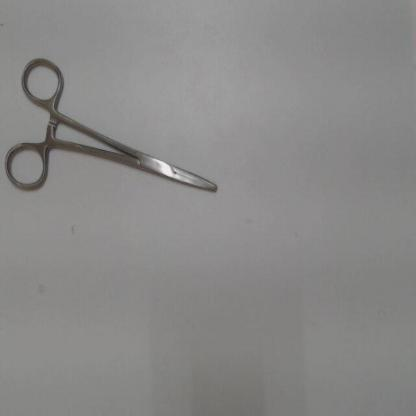Mayo Needle Holder: (2, 51, 230, 206)
